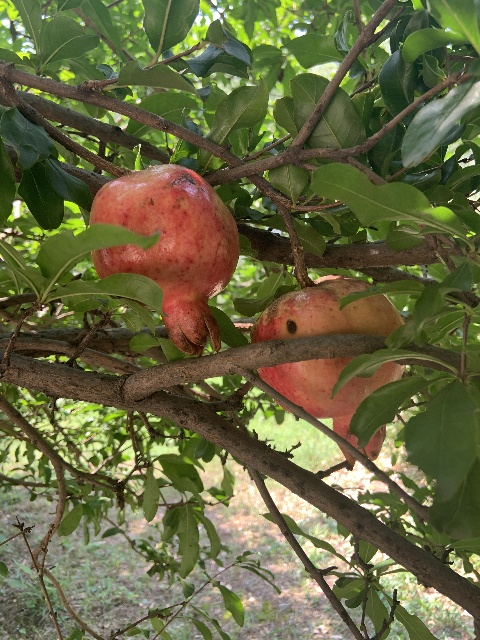ripe: (250, 274, 405, 465), (89, 164, 239, 356)
